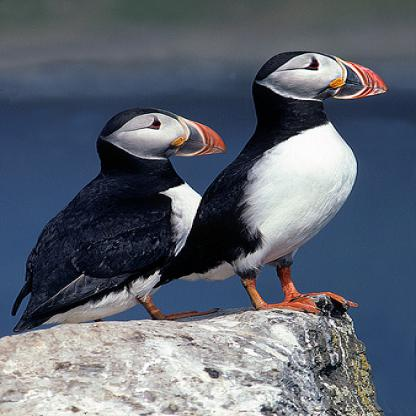bird: (172, 50, 394, 318), (10, 96, 240, 336)
